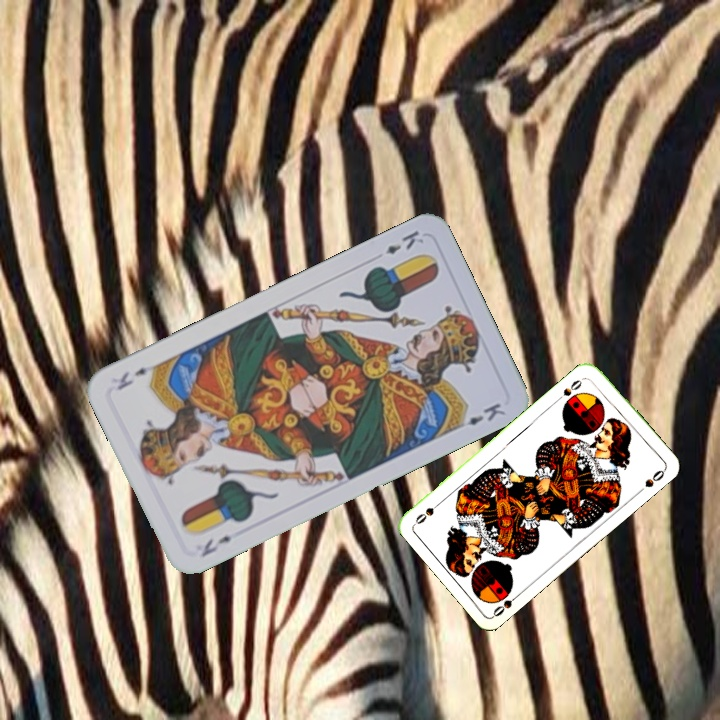EK: (382, 226, 427, 257), (197, 531, 235, 560)
SO: (489, 588, 524, 619), (559, 375, 585, 399)
